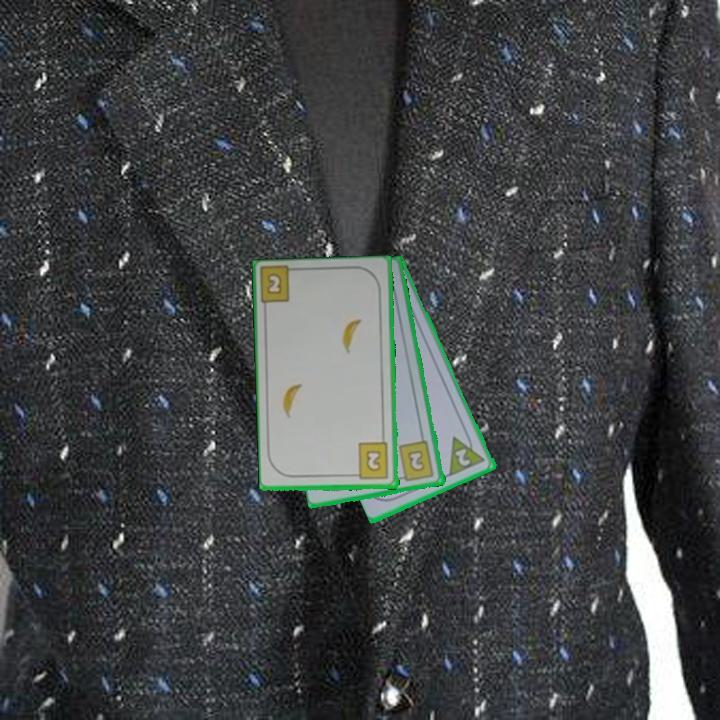2b: (395, 438, 437, 485), (350, 440, 391, 482), (263, 270, 285, 297)
2p: (452, 445, 474, 469)
